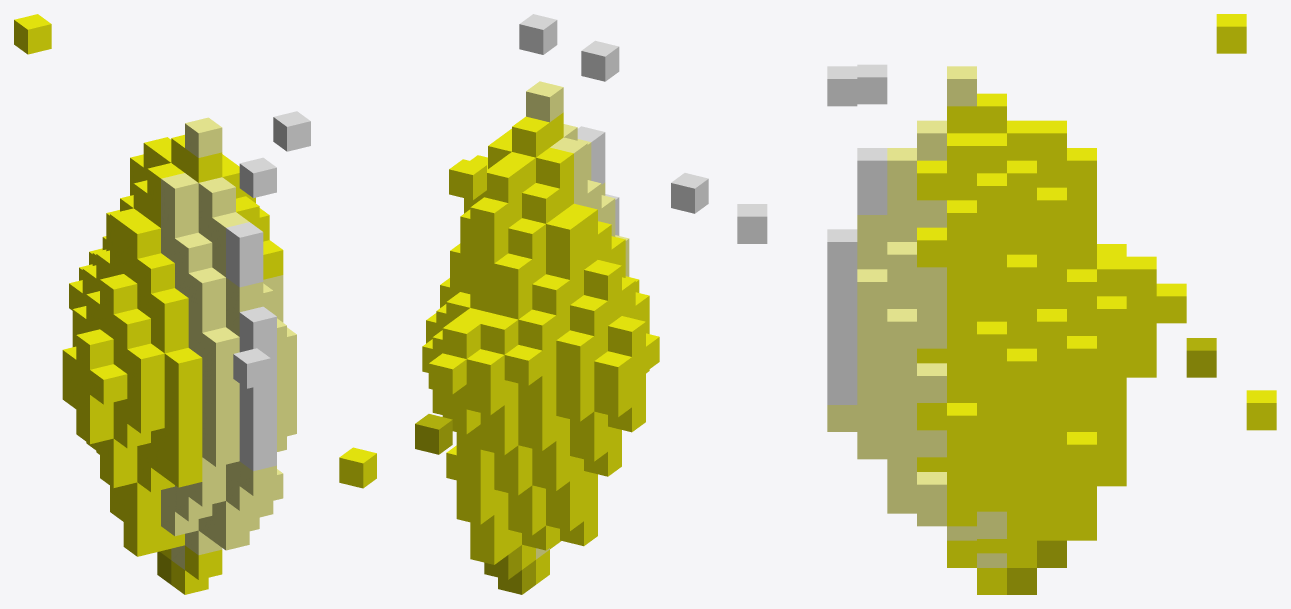
File: crystal_yellow_rune.fbx
The picture shows the model from 3 angles, left to right: view 1: azimuth 30°, elevation 25°; view 2: azimuth 150°, elevation 25°; view 3: azimuth 270°, elevation 25°; orthographic projection. The views are drawn at different scales.
Parts seen in each view (by area): view 1: Untitled; view 2: Untitled; view 3: Untitled.
Part boxes in pixels (x1=…): Untitled: x1=14, y1=14, x2=310, y2=594; Untitled: x1=339, y1=14, x2=708, y2=594; Untitled: x1=737, y1=14, x2=1276, y2=594.
Bounding box in the file's own units: 80 × 180 × 200.
Materials: 1 (1 with a texture image).
